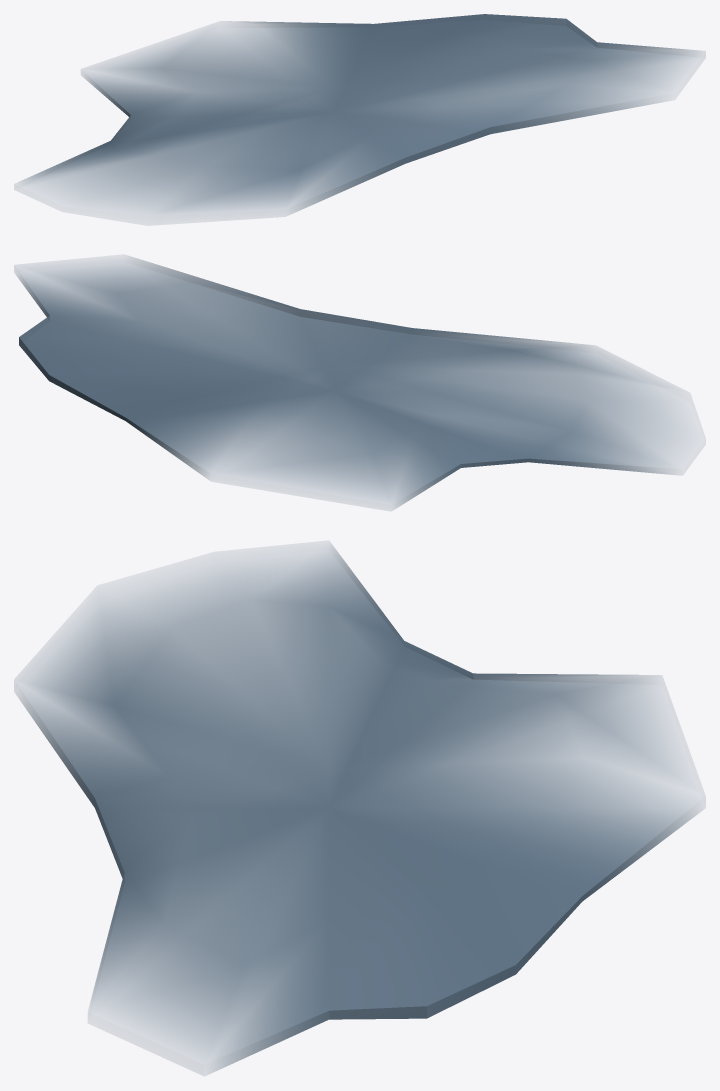
Rendered from mist_wisp.glb.
3 views of the same model, one above another, from view 1: azimuth 30°, elevation 25°; view 2: azimuth 150°, elevation 25°; view 3: azimuth 270°, elevation 25° (orthographic). The views are drawn at different scales.
Parts seen in each view (by area): view 1: mist_wisp; view 2: mist_wisp; view 3: mist_wisp.
Part boxes in pixels (x1,y1,x2,y2): mist_wisp: [14, 14, 705, 225]; mist_wisp: [14, 255, 705, 510]; mist_wisp: [14, 541, 705, 1075].
Size of the model in its own units: 9 by 0.4 by 5.
